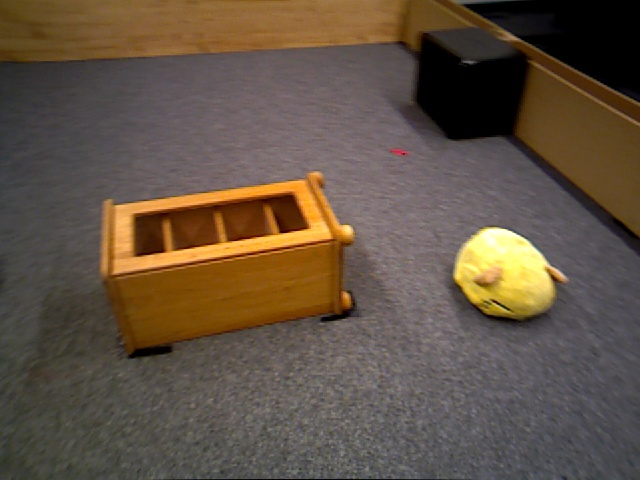grasp: (452, 225, 556, 320)
push: (420, 33, 527, 139)
